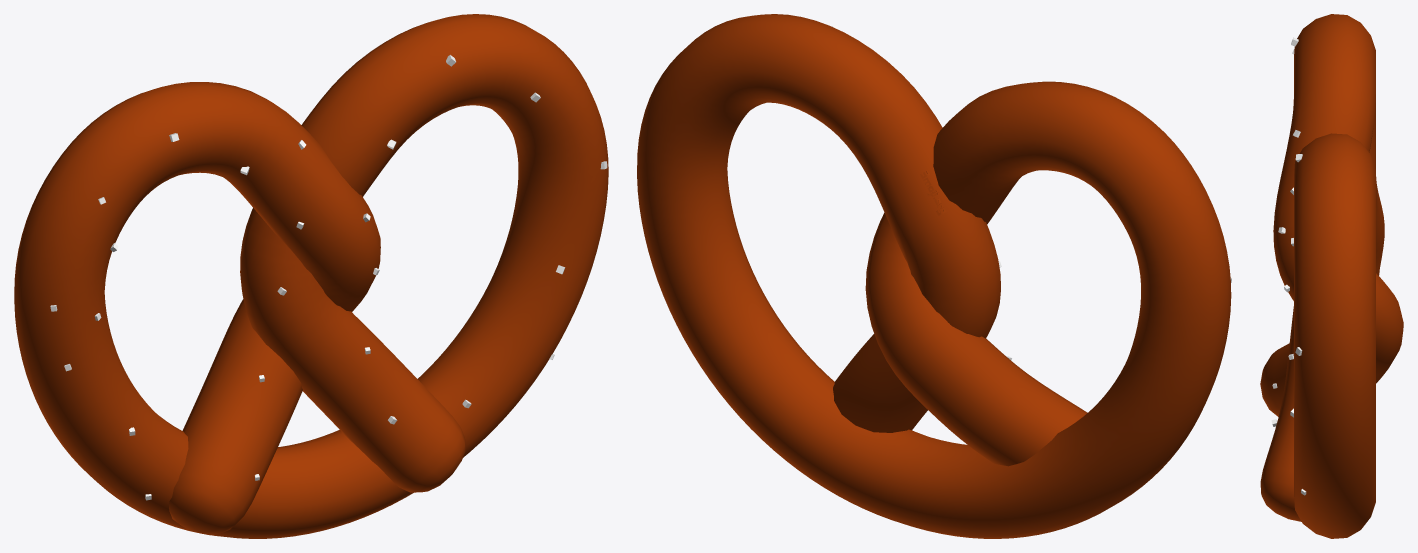
The model's file is pretzel.fbx.
The picture shows the model from 3 angles, left to right: view 1: azimuth 30°, elevation 25°; view 2: azimuth 150°, elevation 25°; view 3: azimuth 270°, elevation 25°; orthographic projection. The views are drawn at different scales.
Parts seen in each view (by area): view 1: Circle.2202; view 2: Circle.2202; view 3: Circle.2202.
Part boxes in pixels (box(x1,y1,x2,y2)): Circle.2202: box(14, 14, 608, 538); Circle.2202: box(637, 14, 1231, 538); Circle.2202: box(1260, 14, 1403, 538).
Size of the model in its own units: 244 by 189 by 58.12.
1 material, 1 textured.
